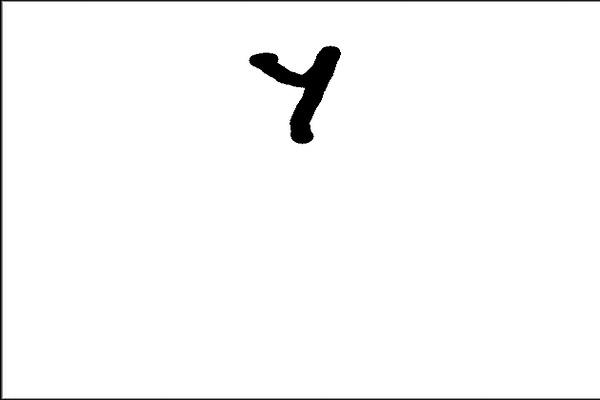Y: (237, 39, 368, 155)
